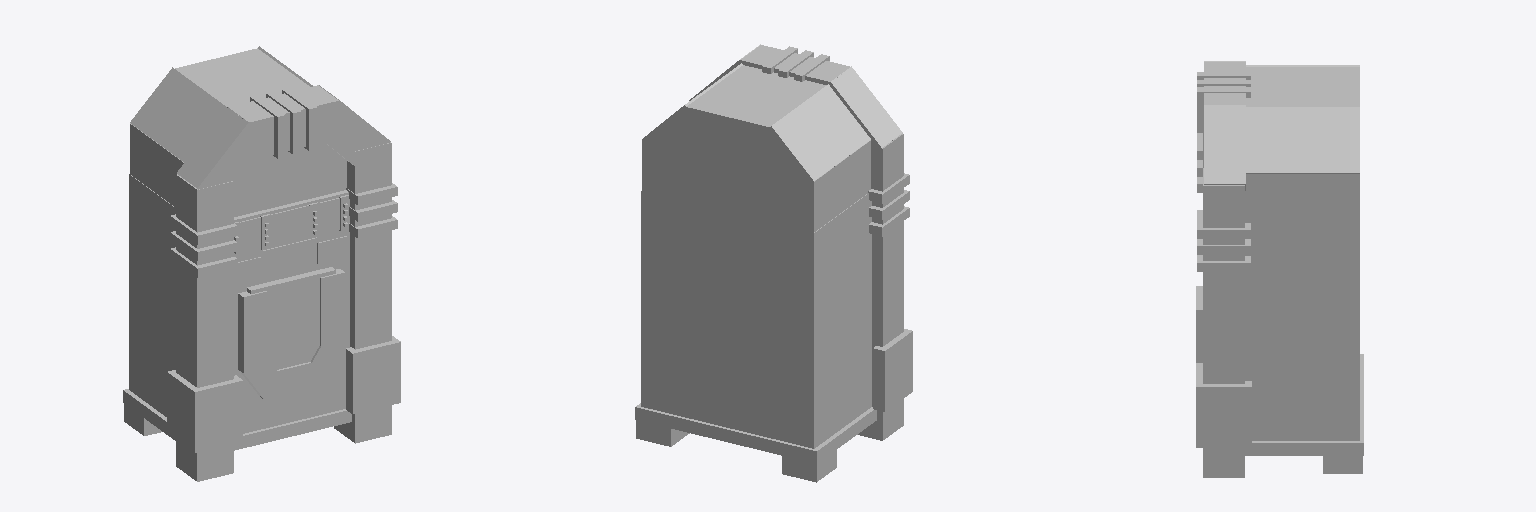
The model's file is 1231_jukebox.obj.
3 renders of one model, left to right at view 1: azimuth 30°, elevation 25°; view 2: azimuth 150°, elevation 25°; view 3: azimuth 270°, elevation 25°, orthographic.
Parts seen in each view (by area): view 1: mainbox, leg1, leg2, glass, mainbox4, mainbox6, toptopleft, frontmesh, leg1top, leg2b, toptop, musics (+26 smaller); view 2: mainbox, mainbox7, mainbox4, mainbox6, leg1, Base, mainbox3, leg1a, toptopleft, leg1top, toptop, mainbox8 (+5 smaller); view 3: mainbox, mainbox5, leg2, mainbox2, mainbox6, leg2a, toptopright, leg2top, Base, toptop, leg2d, leg3 (+3 smaller).
Boxes of the visible parts, x1=… form: mainbox: x1=129, y1=174, x2=349, y2=433; leg1: x1=176, y1=264, x2=233, y2=481; leg2: x1=334, y1=232, x2=391, y2=443; glass: x1=234, y1=142, x2=346, y2=216; mainbox4: x1=130, y1=67, x2=226, y2=162; mainbox6: x1=175, y1=48, x2=309, y2=106; toptopleft: x1=177, y1=107, x2=272, y2=194; frontmesh: x1=268, y1=282, x2=319, y2=369; leg1top: x1=176, y1=174, x2=233, y2=278; leg2b: x1=346, y1=342, x2=388, y2=414; toptop: x1=227, y1=85, x2=339, y2=160; musics: x1=240, y1=198, x2=339, y2=253; mainbox: x1=641, y1=191, x2=871, y2=448; mainbox7: x1=653, y1=131, x2=802, y2=229; mainbox4: x1=764, y1=84, x2=870, y2=186; mainbox6: x1=686, y1=65, x2=826, y2=138; leg1: x1=858, y1=223, x2=903, y2=440; Base: x1=635, y1=403, x2=876, y2=463; mainbox3: x1=802, y1=140, x2=870, y2=232; leg1a: x1=873, y1=329, x2=912, y2=411; toptopleft: x1=831, y1=66, x2=902, y2=156; leg1top: x1=871, y1=133, x2=903, y2=237; toptop: x1=739, y1=45, x2=849, y2=86; mainbox8: x1=668, y1=124, x2=787, y2=162; mainbox: x1=1245, y1=225, x2=1359, y2=440; mainbox5: x1=1246, y1=107, x2=1359, y2=173; leg2: x1=1203, y1=274, x2=1244, y2=477; mainbox2: x1=1245, y1=174, x2=1359, y2=224; mainbox6: x1=1246, y1=67, x2=1359, y2=106; leg2a: x1=1196, y1=381, x2=1251, y2=447; toptopright: x1=1204, y1=105, x2=1245, y2=190; leg2top: x1=1203, y1=168, x2=1244, y2=273; Base: x1=1245, y1=354, x2=1363, y2=455; toptop: x1=1204, y1=62, x2=1245, y2=104; leg2d: x1=1197, y1=210, x2=1250, y2=238; leg3: x1=1323, y1=456, x2=1362, y2=473.
Bounding box in the file's own units: 1.06 × 1.72 × 0.75.